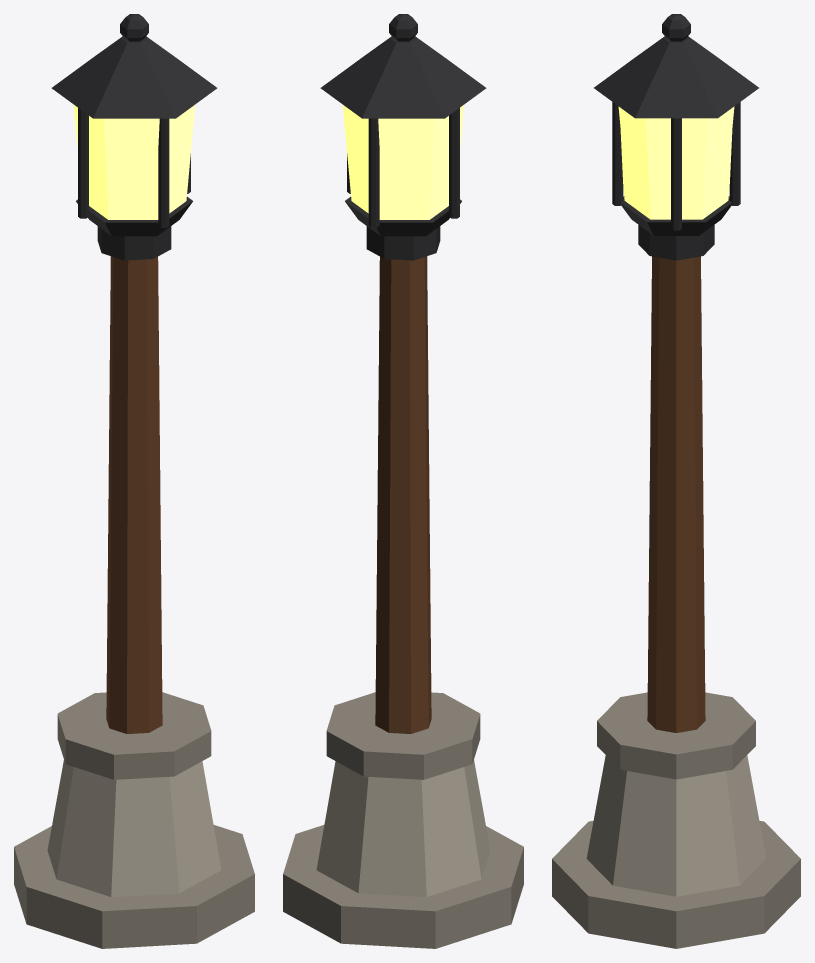
Rendered from lamp.glb.
3 renders of one model, left to right at view 1: azimuth 30°, elevation 25°; view 2: azimuth 150°, elevation 25°; view 3: azimuth 270°, elevation 25°, orthographic.
Parts seen in each view (by area): view 1: lamp; view 2: lamp; view 3: lamp.
Part boxes in pixels (bbox=[...]): lamp: bbox=[14, 14, 254, 948]; lamp: bbox=[283, 14, 523, 948]; lamp: bbox=[552, 14, 800, 948].
Size of the model in its own units: 0.36 by 1.41 by 0.36.
